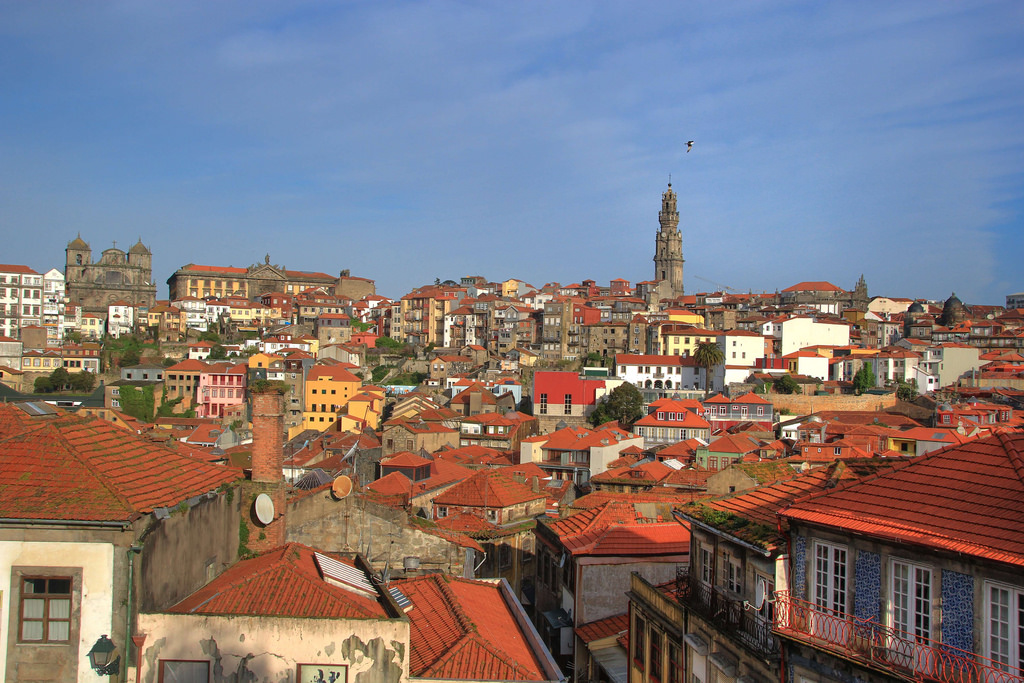clerigos: (653, 173, 684, 299)
